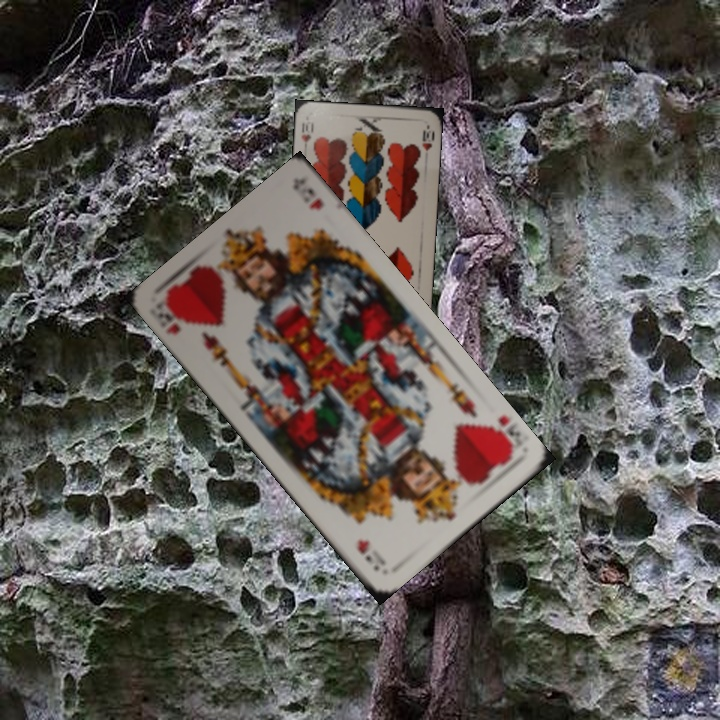H10: (297, 117, 316, 145)
HK: (480, 411, 517, 459), (154, 295, 191, 338)
